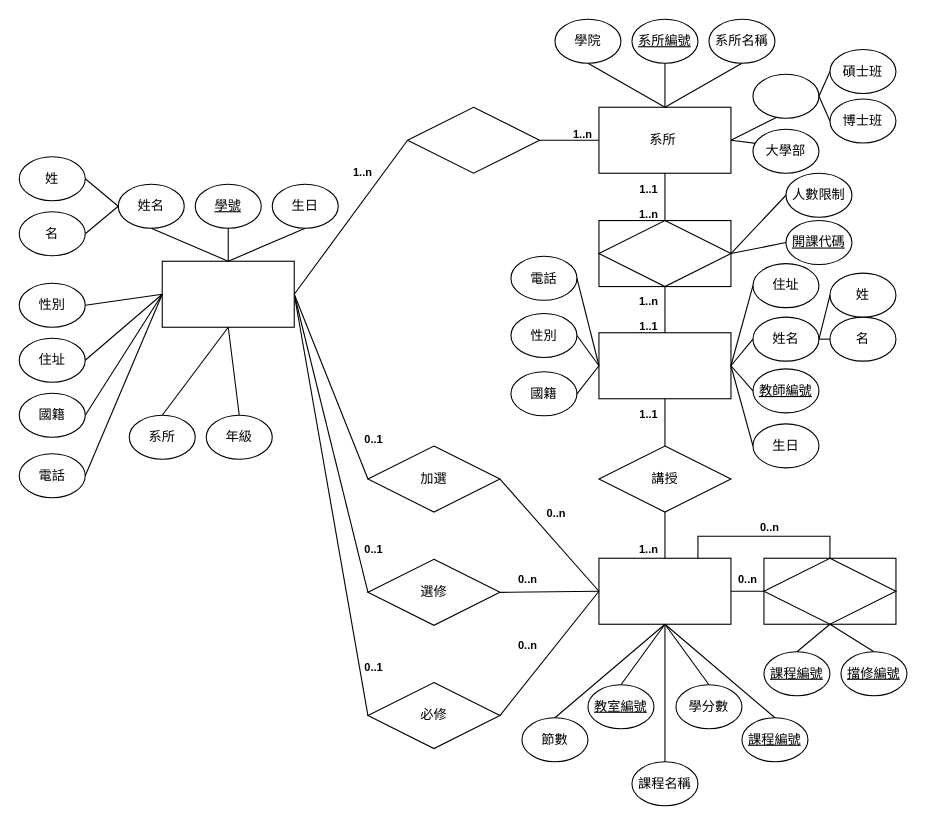
The diagram is 926 pixels wide and 825 high, and some of its shapes have lost their labels. The shapes that lost their labels are listed below. From the top down, each one's centre as x and y in pixels, then its label:
At point (785, 95): "研究所".
At point (473, 139): "屬於".
At point (664, 253): "開課".
At point (227, 293): "學生".
At point (664, 365): "教授".
At point (664, 590): "課程".
At point (829, 590): "擋修".
